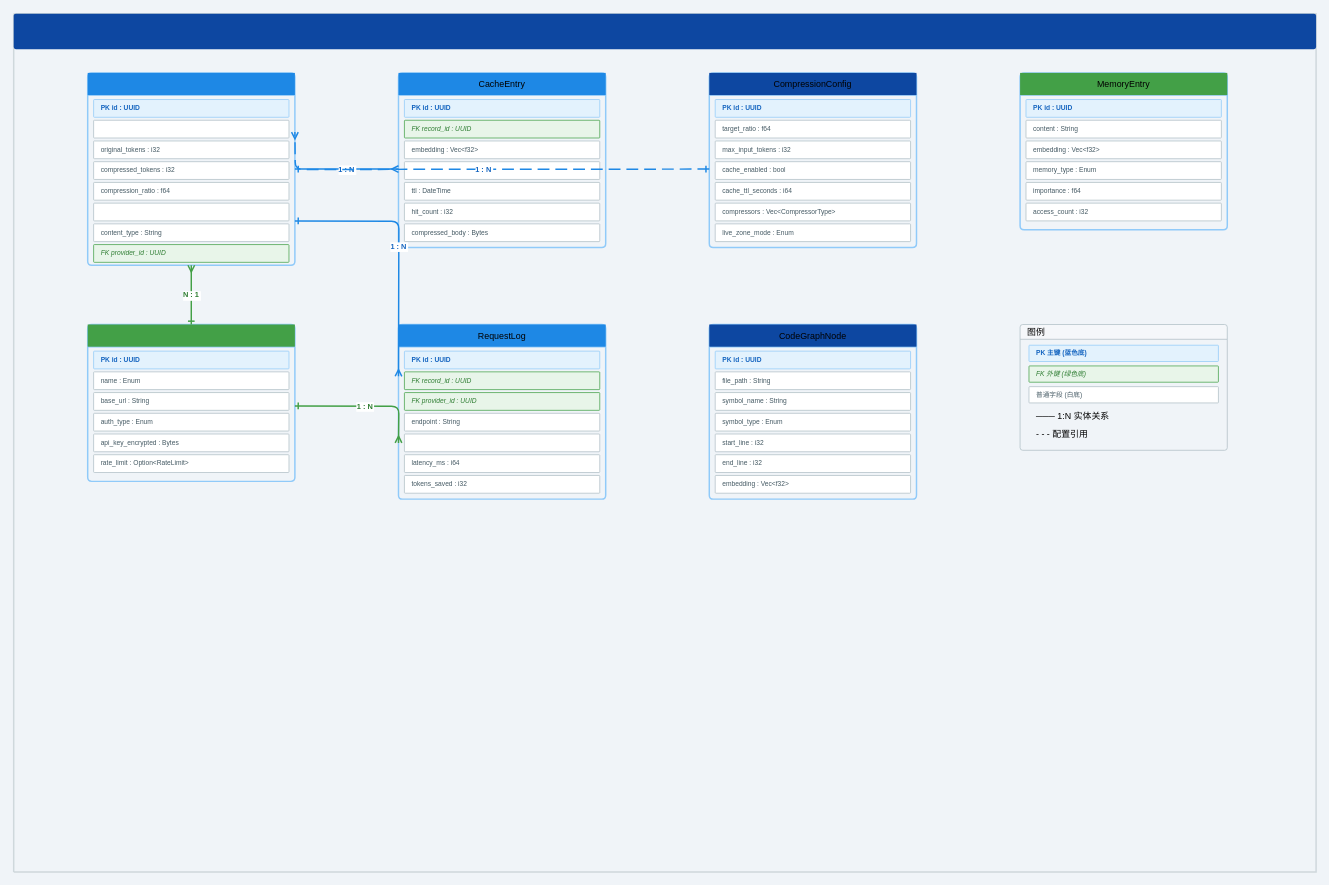
Image size: 1329x885. Some labels were removed from this diagram. The box of each missing label's shape, as (x1, y1, x2, y2) in pixels:
compressor_type : Enum: (93, 202, 289, 221)
content_hash : String: (93, 120, 289, 138)
Headroom 实体关系图: (13, 13, 1316, 49)
model : String: (404, 433, 600, 452)
Provider: (87, 324, 295, 346)
similarity_threshold : f64: (404, 161, 600, 179)
